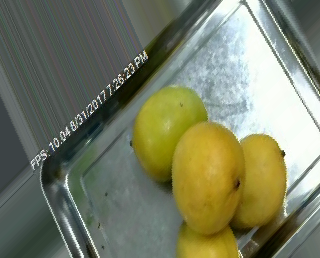Mango: (172, 122, 246, 234), (134, 87, 207, 181), (226, 134, 286, 228), (178, 221, 240, 258)
